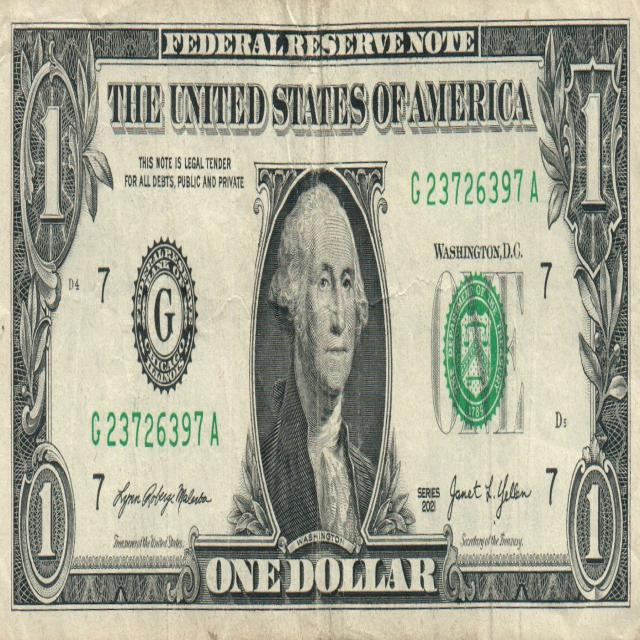SerialNumber: (92, 411, 218, 447), (412, 169, 523, 205)
